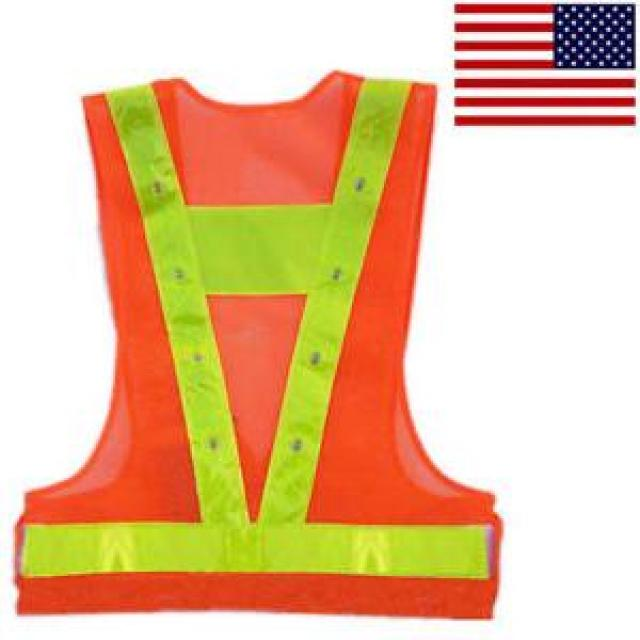Reflective-Jacket: (4, 27, 537, 640)
